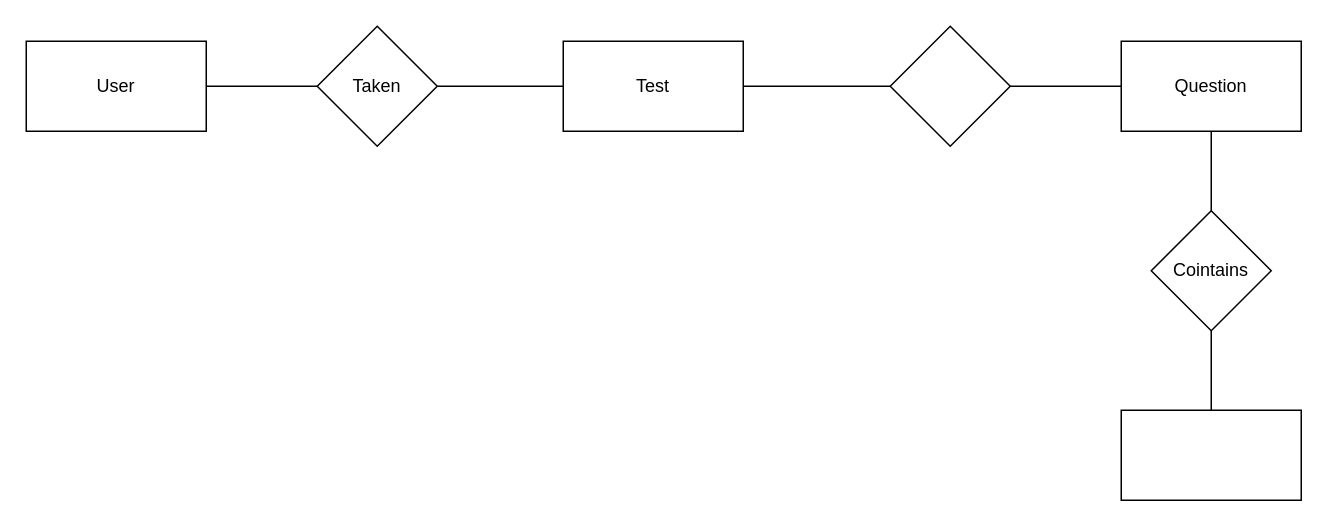
This 1328x527 diagram has some shape labels left out. The centre of each missing label's shape, as x and y in pixels:
Answer: the point at 1210,454
Test-Questions: the point at 949,85
